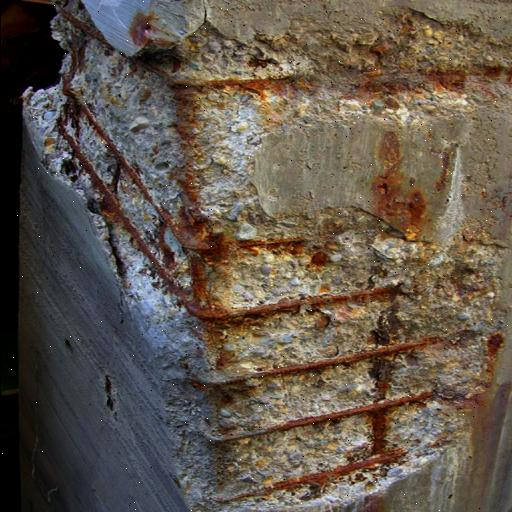spalling: (22, 6, 506, 507)
